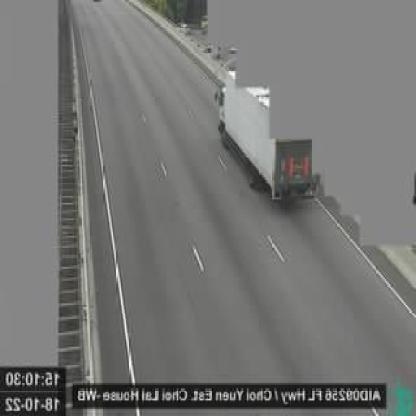Truck: (218, 81, 318, 207)
